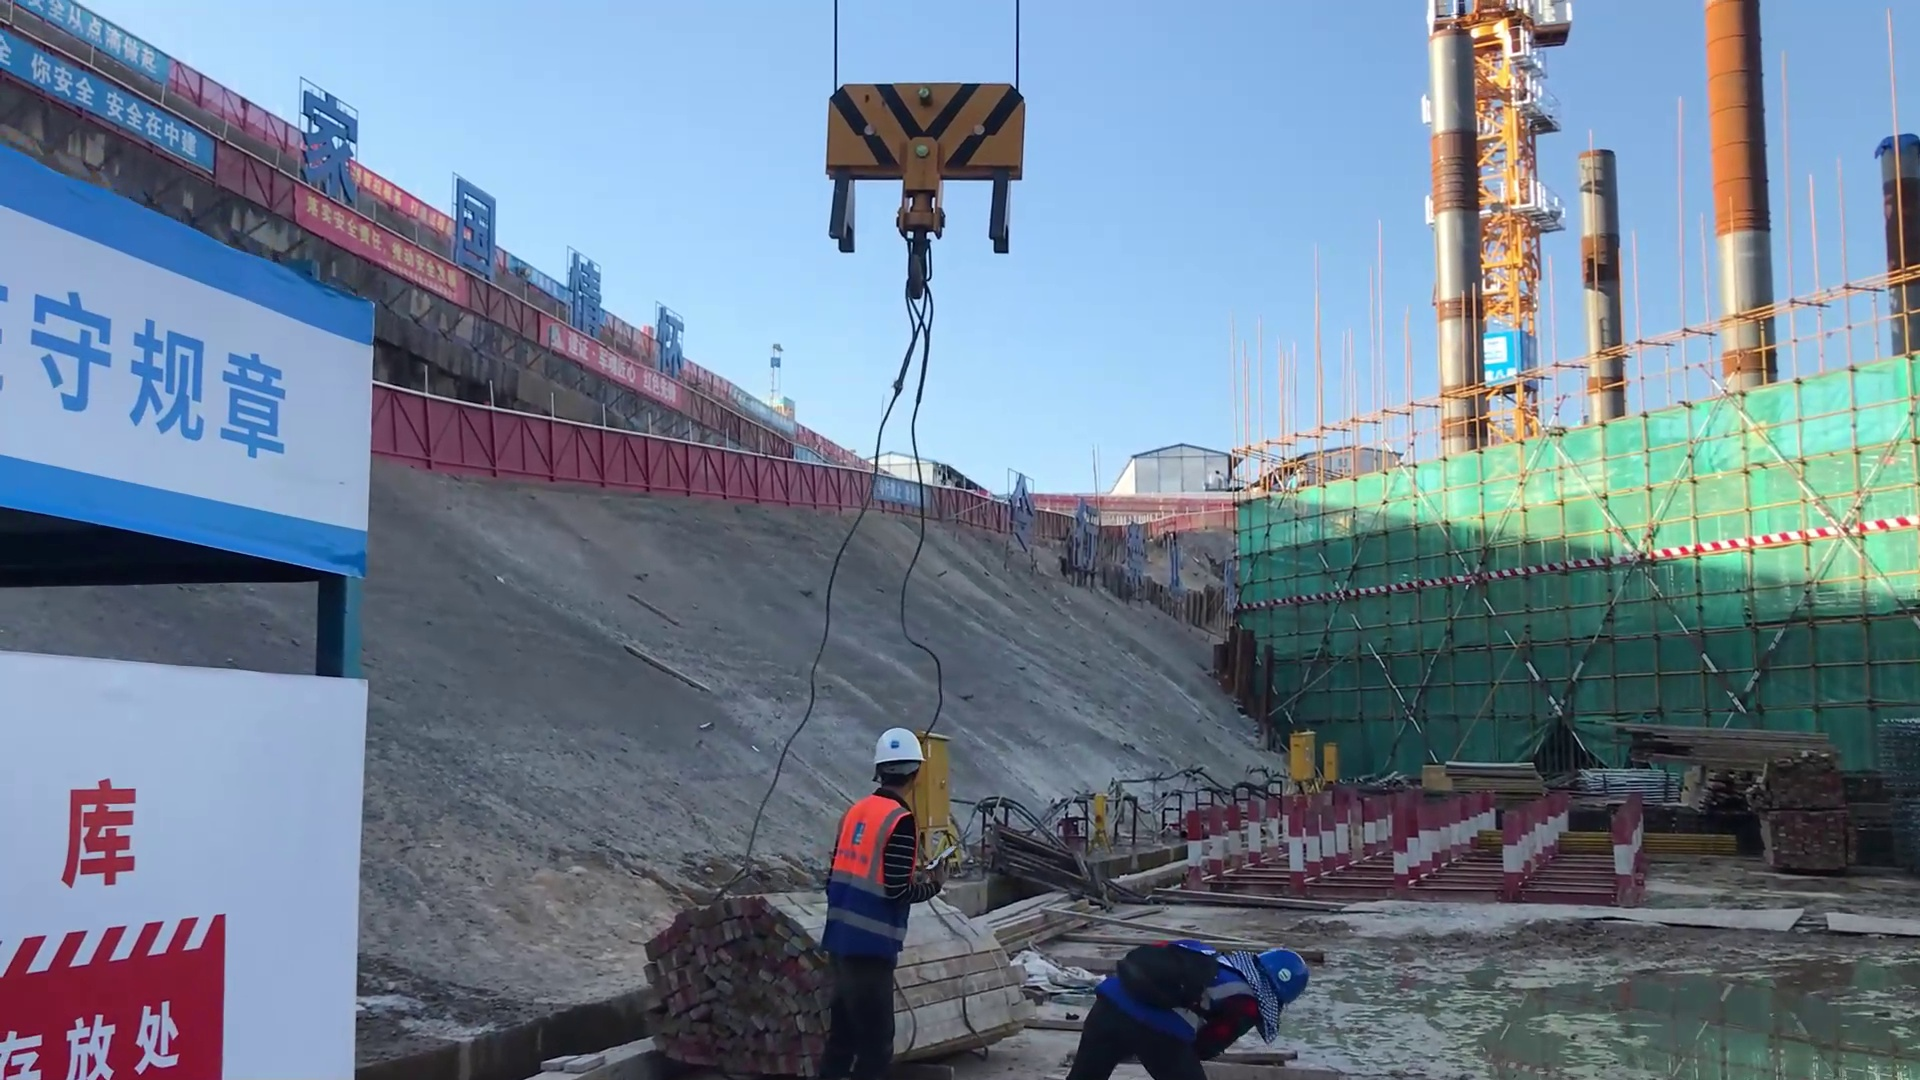board: (1604, 717, 1838, 774), (1440, 756, 1546, 814)
ebox: (915, 726, 959, 869), (1281, 729, 1322, 795), (1086, 791, 1115, 853), (1324, 739, 1343, 788)
fence: (386, 383, 872, 512)
helmet: (1246, 938, 1315, 1031), (862, 724, 929, 786)
hook: (803, 62, 1050, 321)
person: (812, 709, 956, 1080), (1060, 933, 1322, 1080)
slogan: (1, 144, 379, 581), (1, 26, 221, 179), (294, 179, 474, 311), (538, 311, 685, 410), (18, 1, 167, 86), (351, 156, 457, 242), (726, 377, 798, 436), (871, 473, 933, 511), (793, 442, 823, 469)
vest: (814, 791, 918, 973), (1090, 938, 1249, 1038)
wood: (632, 880, 1033, 1080), (1735, 747, 1850, 813), (1756, 809, 1866, 878)
